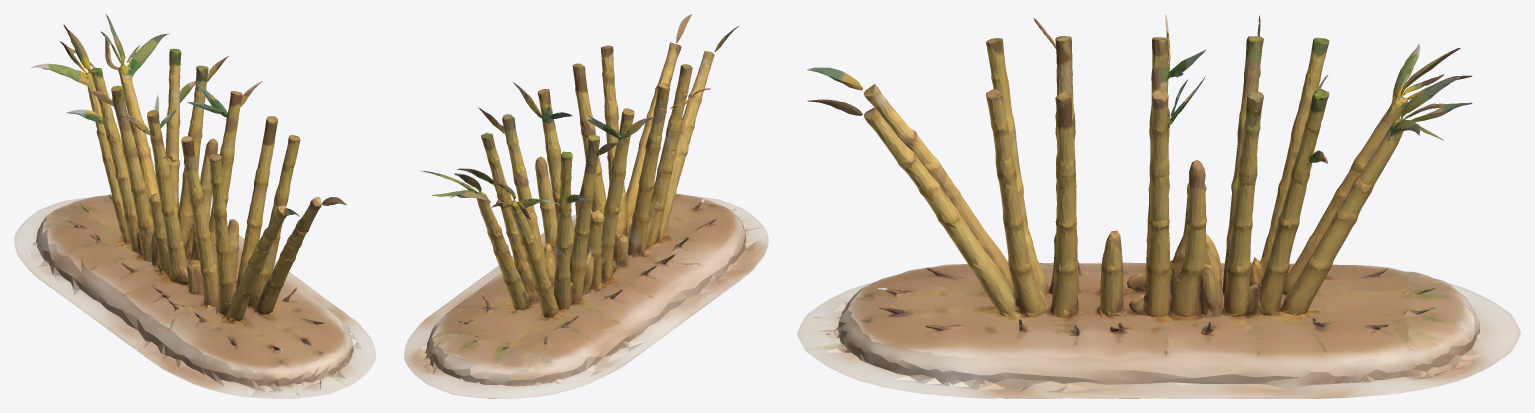
Rendered from rodin_bamboogrove_raw.glb.
The picture shows the model from 3 angles, left to right: view 1: azimuth 30°, elevation 25°; view 2: azimuth 150°, elevation 25°; view 3: azimuth 270°, elevation 25°; orthographic projection. The views are drawn at different scales.
Parts seen in each view (by area): view 1: model; view 2: model; view 3: model.
Boxes of the visible parts, box(x1,y1,x2,y2) form: model: box(14, 14, 375, 398); model: box(404, 14, 768, 398); model: box(797, 14, 1520, 398).
Bounding box in the file's own units: 0.8106 × 0.816 × 1.89.
1 material, 1 textured.
